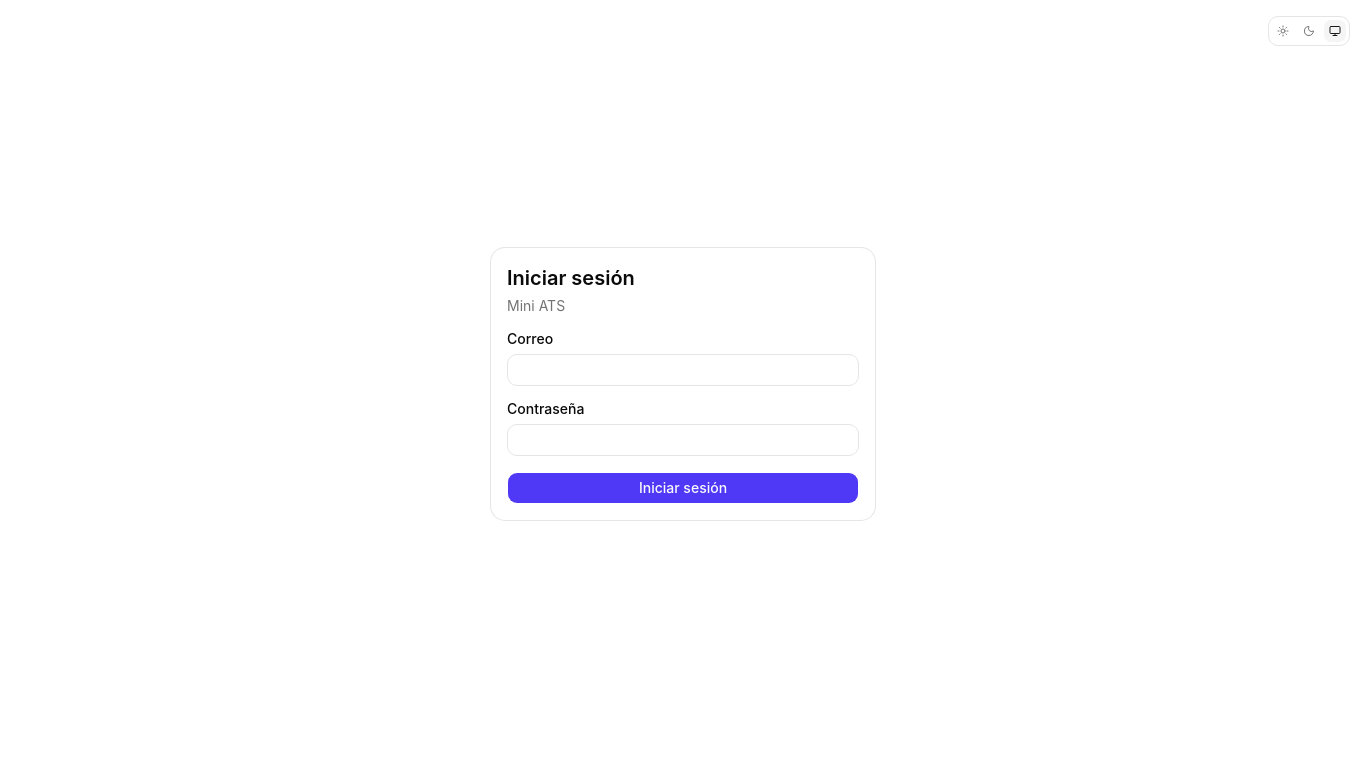
Test case: app router › does not keep the previous page after logging out
This screenshot has width=1366, height=768.
Type "ada@example.com" into the field labelled "Correo".
click(683, 370); type("ada@example.com")  # box x1=507 y1=354 x2=859 y2=386
Type "Secreta-123" into the password field labelled "Contraseña".
click(683, 440); type("Secreta-123")  # box x1=507 y1=424 x2=859 y2=456
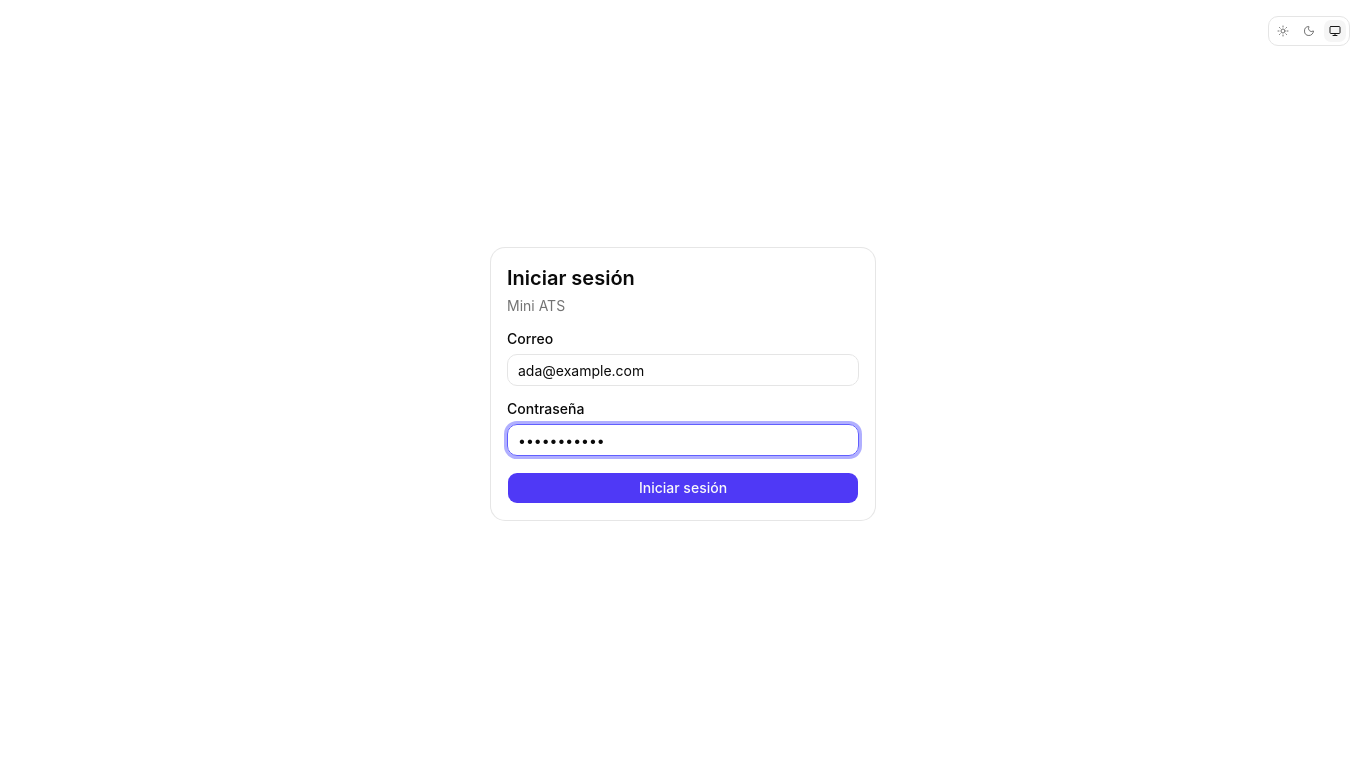
Click the button "Iniciar sesión".
click(683, 488)  # box x1=507 y1=472 x2=859 y2=504
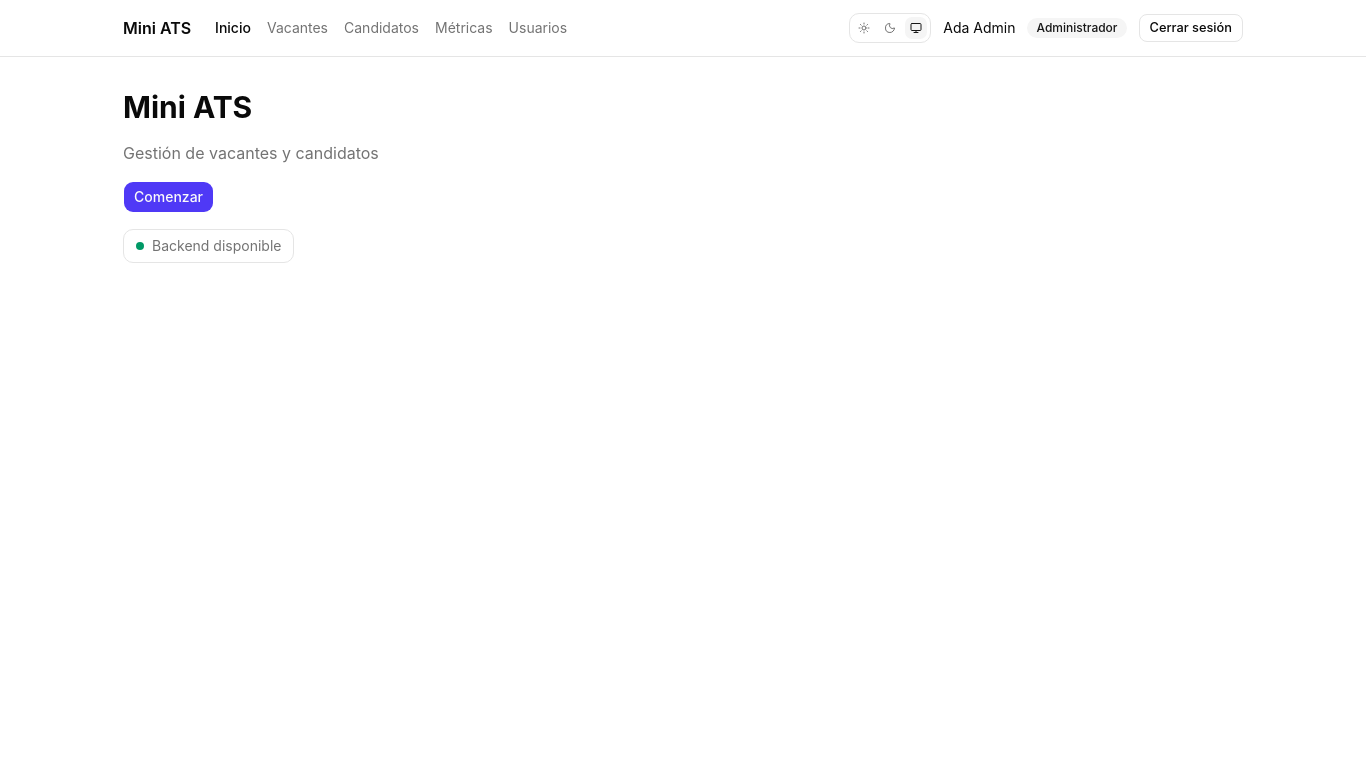
Click the link "Usuarios".
click(538, 28)  # box x1=509 y1=18 x2=567 y2=38
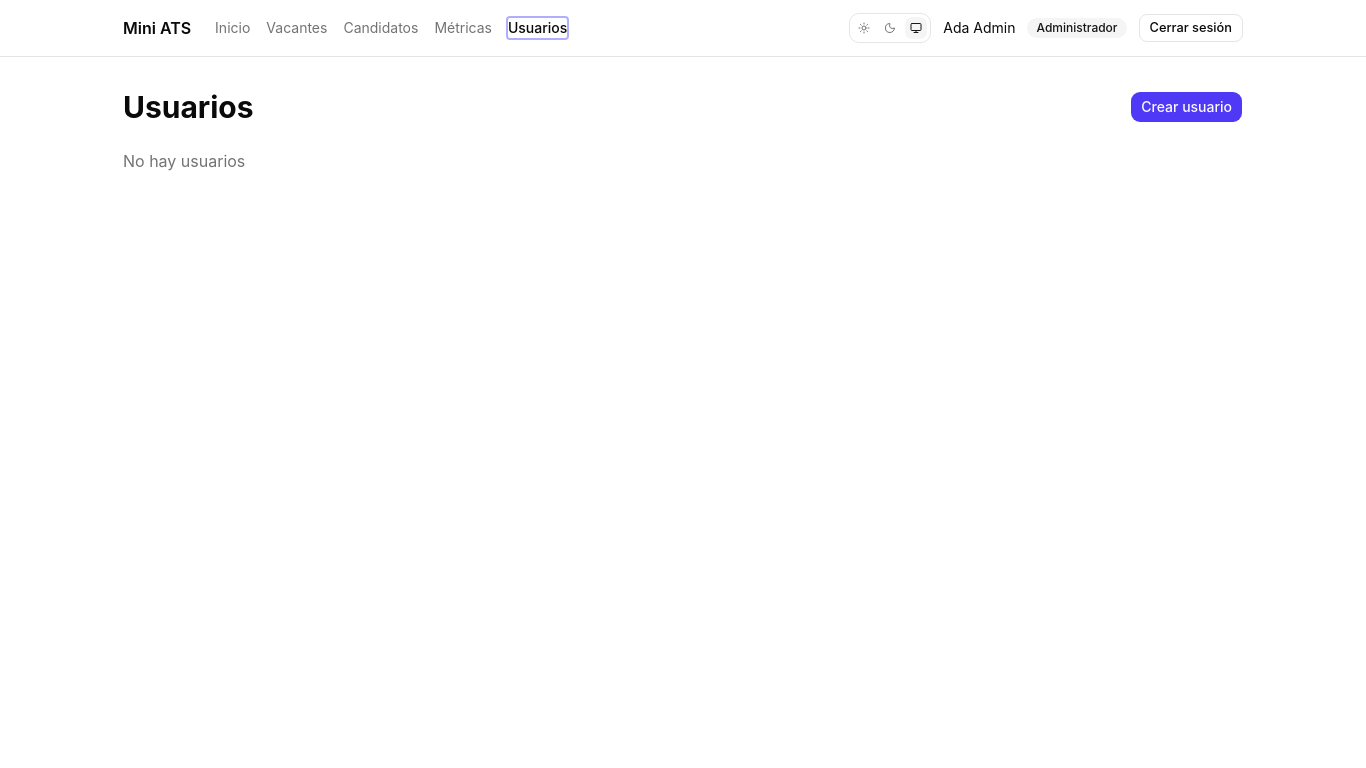
Result: the heading "Usuarios" is shown at x1=123 y1=89 x2=254 y2=125
Click the button "Cerrar sesión".
click(1191, 28)  # box x1=1138 y1=14 x2=1243 y2=42
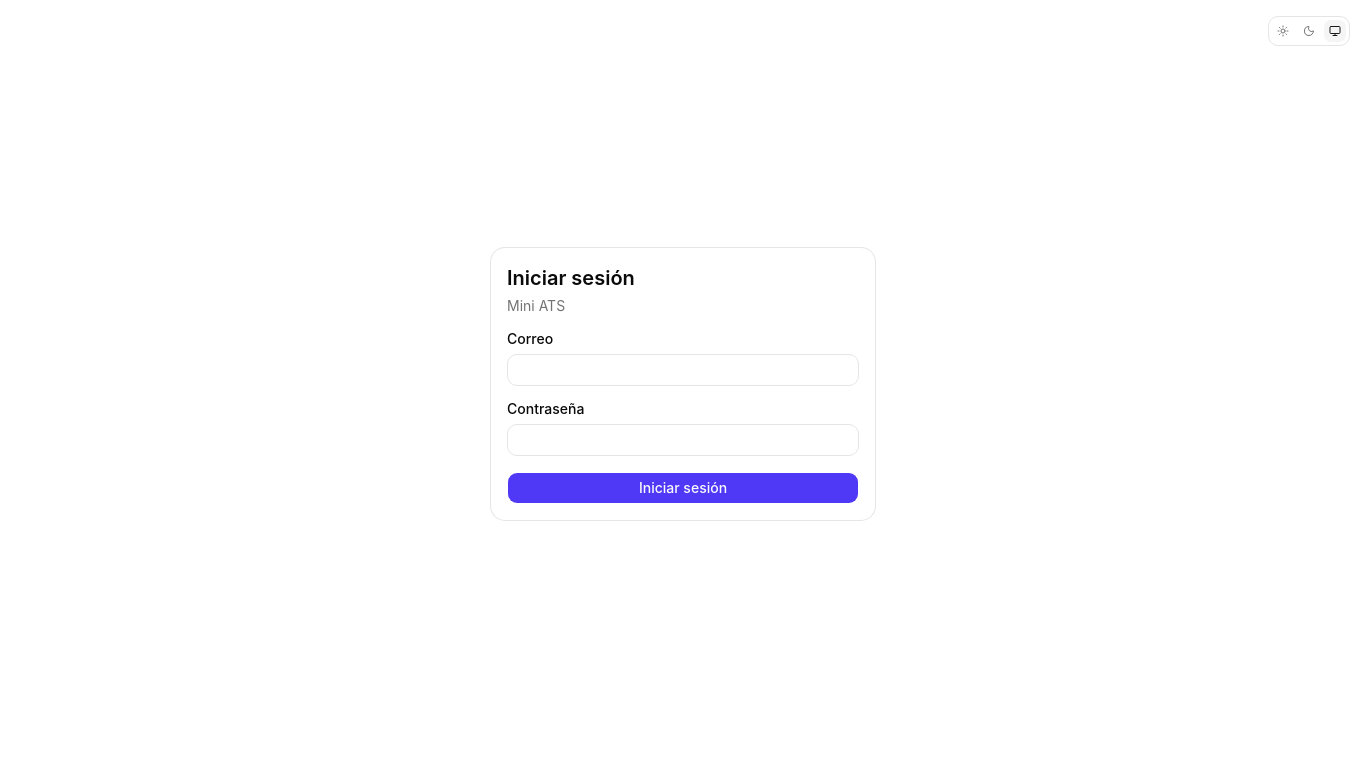
Result: the heading "Iniciar sesión" is shown at x1=507 y1=266 x2=635 y2=290
Type "bea@example.com" into the field labelled "Correo".
click(683, 370); type("bea@example.com")  # box x1=507 y1=354 x2=859 y2=386
Type "Secreta-123" into the password field labelled "Contraseña".
click(683, 440); type("Secreta-123")  # box x1=507 y1=424 x2=859 y2=456
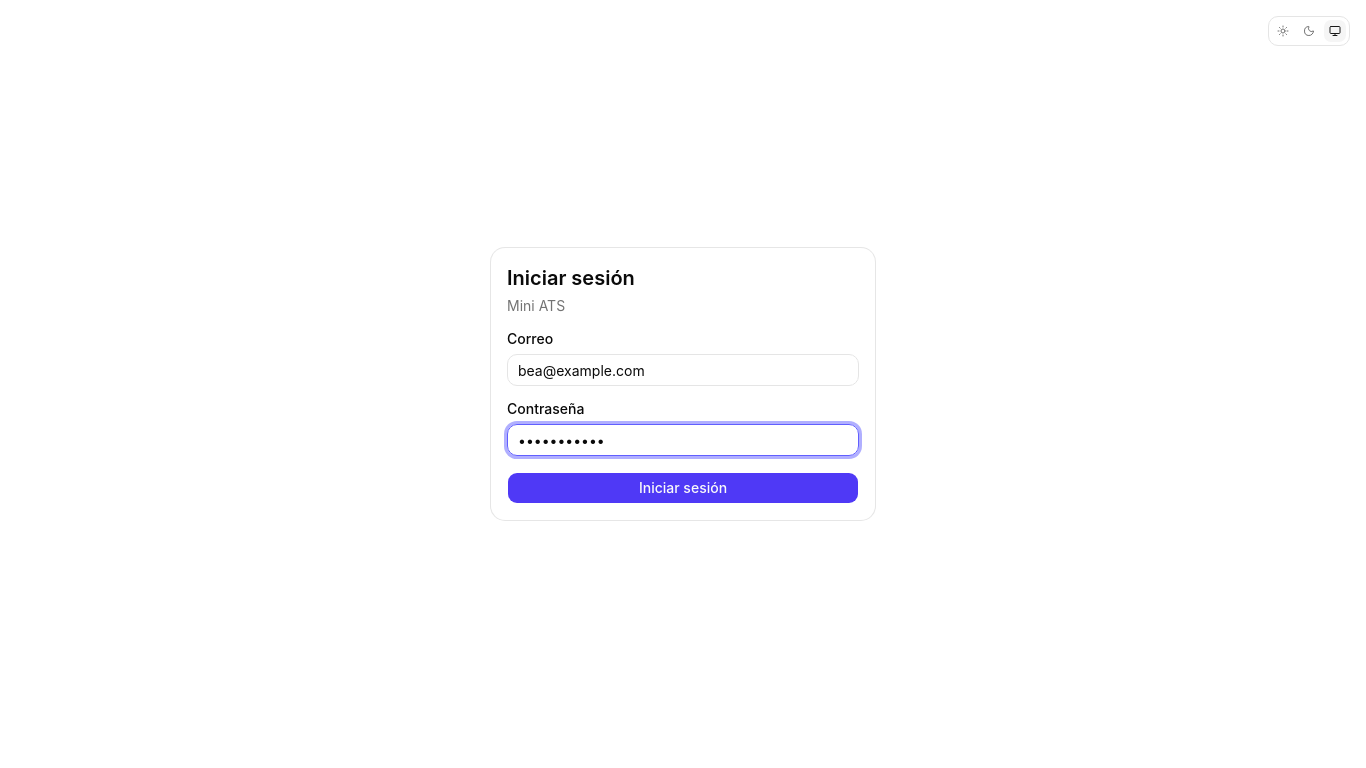
Click the button "Iniciar sesión".
click(683, 488)  # box x1=507 y1=472 x2=859 y2=504
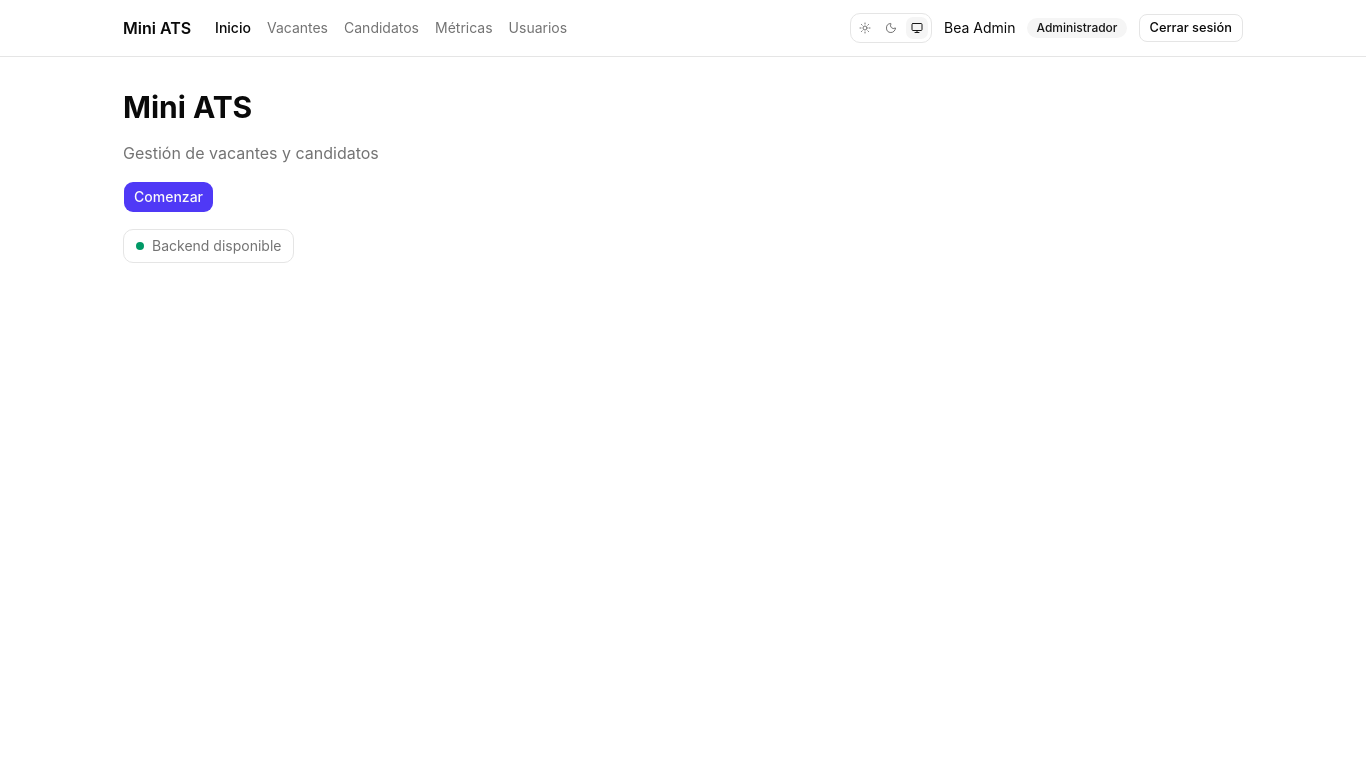
Result: the text "Bea Admin" is shown at x1=944 y1=18 x2=1016 y2=38
